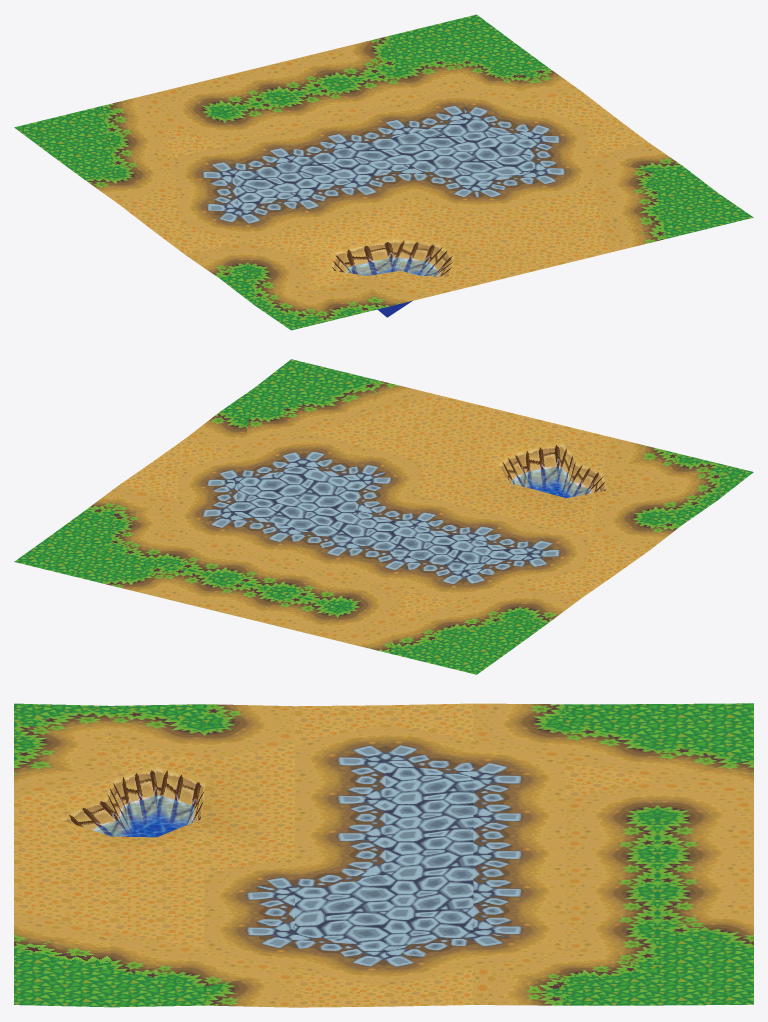
Rendered from c_grd_f_s_3.001.glb.
3 renders of one model, top to bottom at view 1: azimuth 30°, elevation 25°; view 2: azimuth 150°, elevation 25°; view 3: azimuth 270°, elevation 25°, orthographic. The views are drawn at different scales.
Visible parts, largest first — view 1: c_grd_f_s_3.001; view 2: c_grd_f_s_3.001; view 3: c_grd_f_s_3.001.
Part boxes in pixels (x1=…): c_grd_f_s_3.001: x1=14, y1=14, x2=753, y2=330; c_grd_f_s_3.001: x1=14, y1=359, x2=753, y2=674; c_grd_f_s_3.001: x1=14, y1=703, x2=753, y2=1007.
Bounding box in the file's own units: 32 × 4.2 × 33.2.
7 materials, 7 textured.
